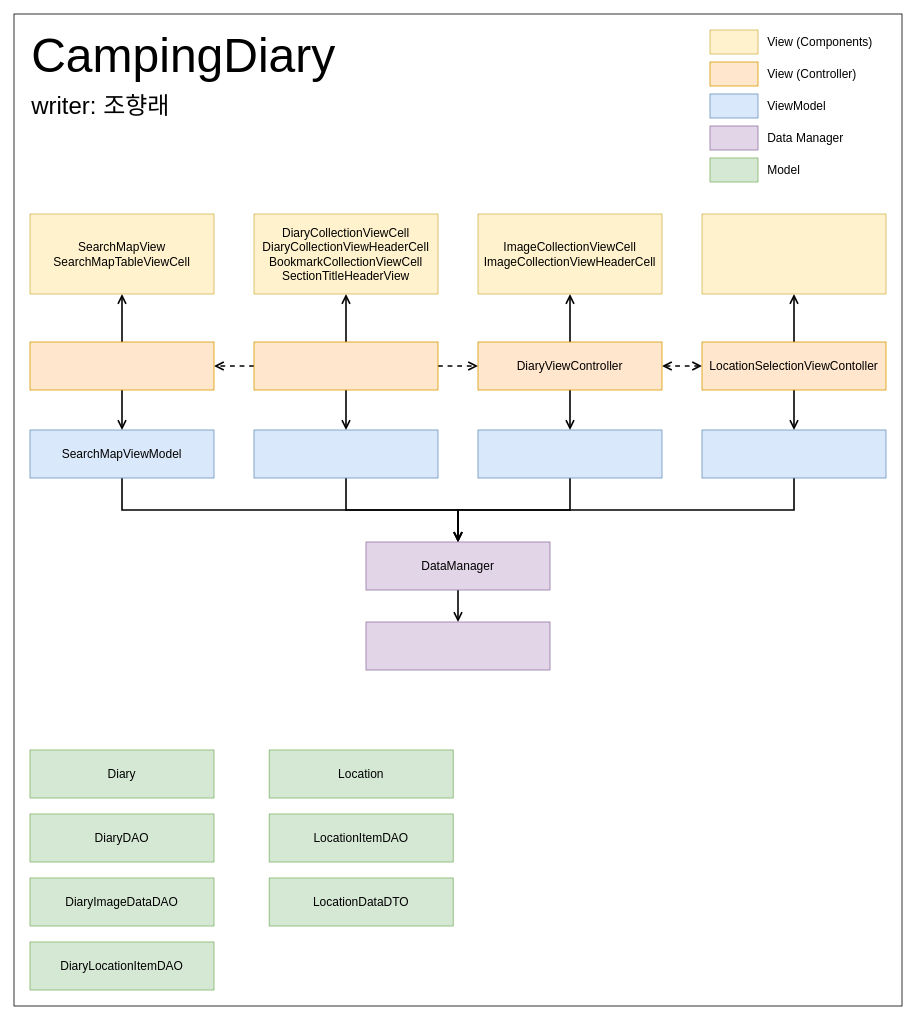
Image size: 916x1020. Some labels were removed from this diagram. The shapes that lost their labels are listed below. From the top down, each one's centre as x and y in pixels, then its label:
At point 793,253: "LocationSelectionView LocationSelectionTableViewCell".
At point 121,365: "SearchMapViewController".
At point 345,365: "HomeViewController".
At point 345,453: "HomeViewModel".
At point 569,453: "DiaryViewModel".
At point 793,453: "LocationSelectionViewModel".
At point 457,645: "RealmManager".
